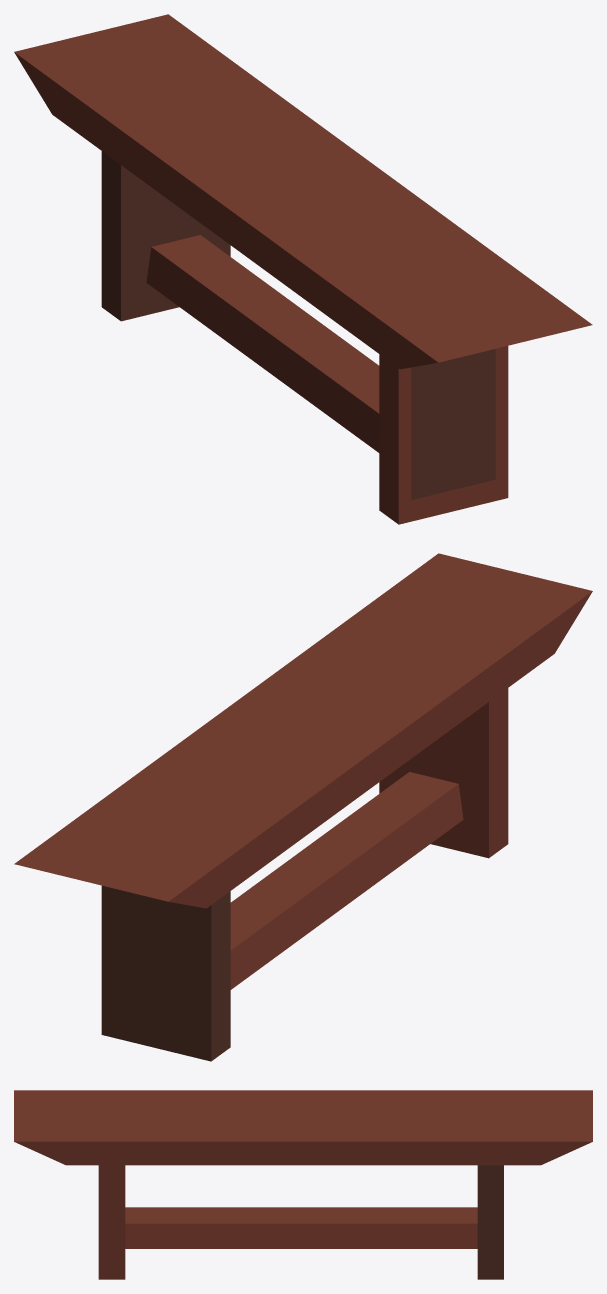
Rendered from bankje.fbx.
The picture shows the model from 3 angles, top to bottom: view 1: azimuth 30°, elevation 25°; view 2: azimuth 150°, elevation 25°; view 3: azimuth 270°, elevation 25°; orthographic projection. The views are drawn at different scales.
Visible parts, largest first — view 1: Cube, Cube.003, Cube.002, Cube.001; view 2: Cube, Cube.001, Cube.002, Cube.003; view 3: Cube, Cube.002, Cube.003, Cube.001.
Part boxes in pixels (x1,y1,x2,y2): Cube: (14, 14, 592, 369); Cube.003: (379, 346, 508, 524); Cube.002: (146, 235, 379, 452); Cube.001: (101, 151, 230, 321); Cube: (14, 553, 592, 908); Cube.001: (101, 885, 230, 1061); Cube.002: (230, 772, 463, 989); Cube.003: (379, 688, 508, 858); Cube: (14, 1090, 592, 1165); Cube.002: (125, 1207, 477, 1248); Cube.003: (98, 1165, 125, 1279); Cube.001: (477, 1165, 503, 1279).
Size of the model in its own units: 125 by 165 by 597.
